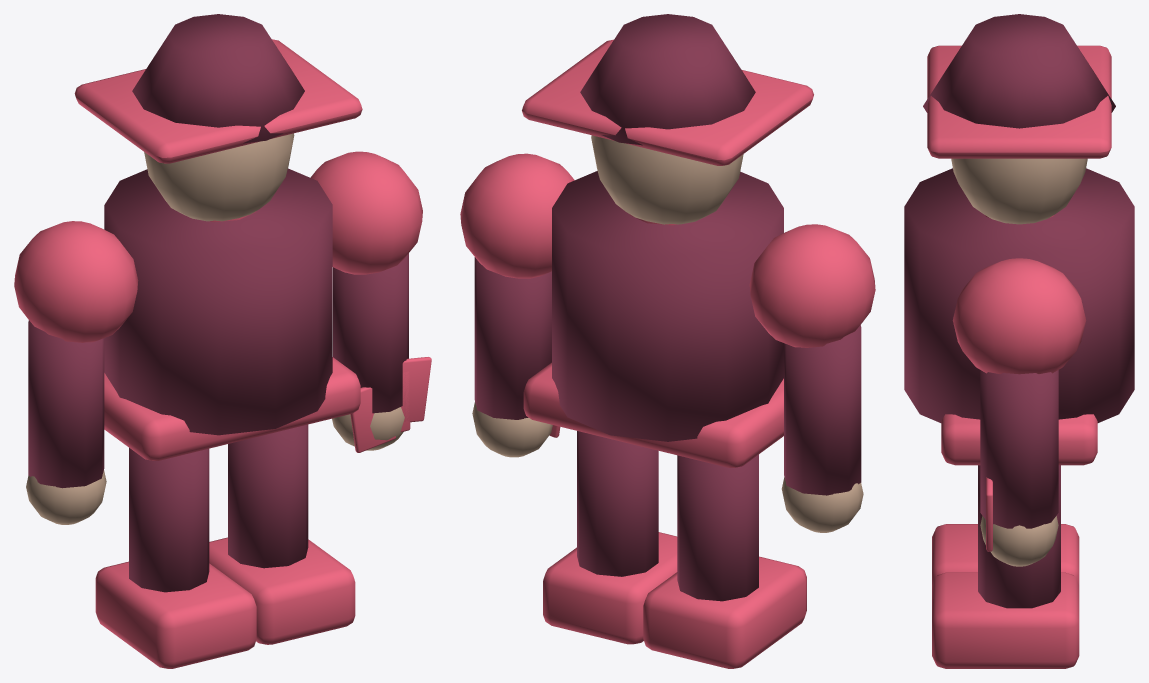
Rendered from Gambler_Placeholder.glb.
The picture shows the model from 3 angles, left to right: view 1: azimuth 30°, elevation 25°; view 2: azimuth 150°, elevation 25°; view 3: azimuth 270°, elevation 25°; orthographic projection.
Parts seen in each view (by area): view 1: Gambler_Placeholder_Export; view 2: Gambler_Placeholder_Export; view 3: Gambler_Placeholder_Export.
Part boxes in pixels (x1,y1,x2,y2): Gambler_Placeholder_Export: (14, 14, 431, 668); Gambler_Placeholder_Export: (460, 14, 875, 668); Gambler_Placeholder_Export: (904, 14, 1134, 668).
Bounding box in the file's own units: 119 × 170 × 60.
